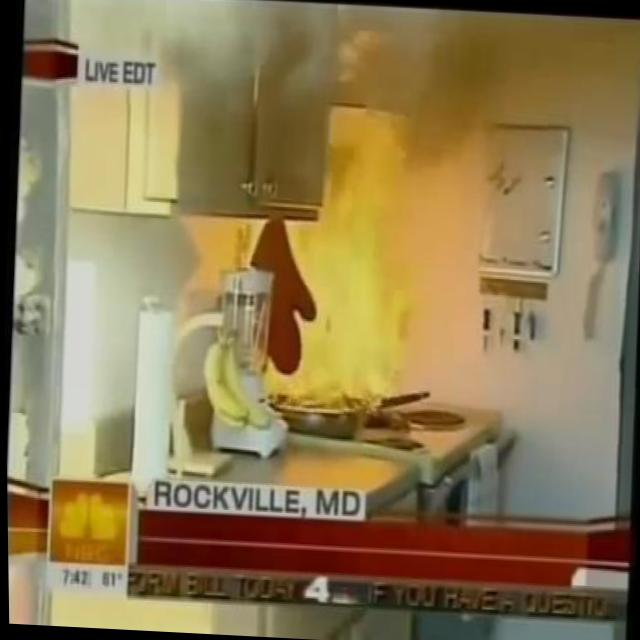fire: (232, 100, 460, 417)
